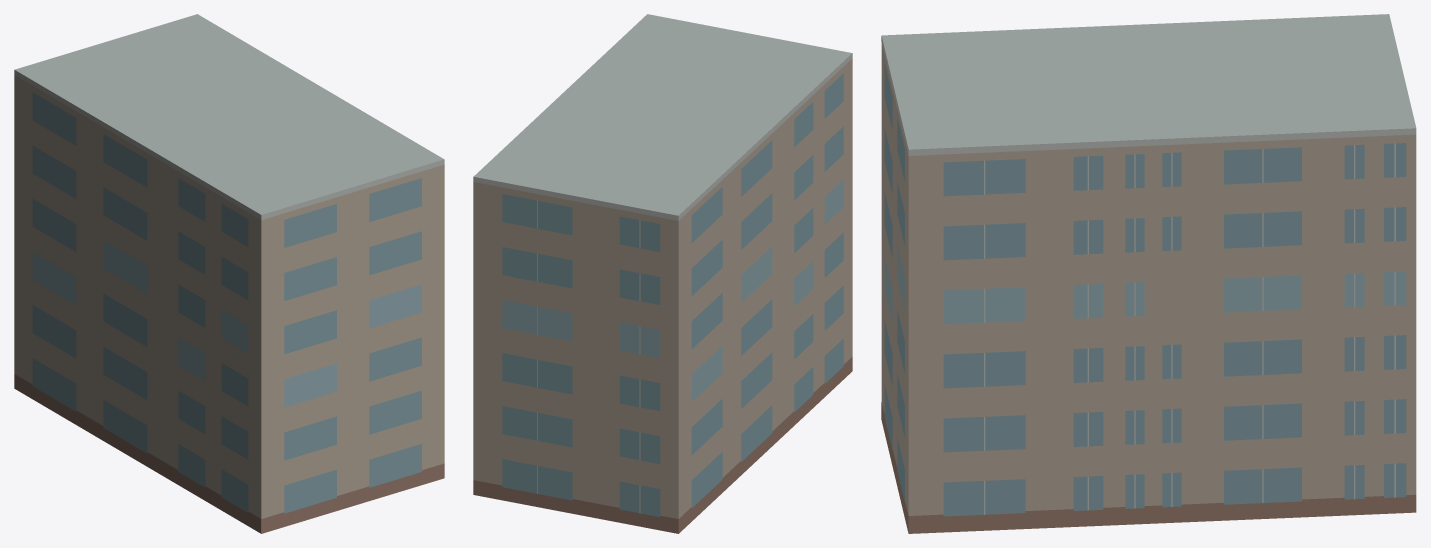
The model's file is survey-upis-32861332.glb.
3 renders of one model, left to right at view 1: azimuth 30°, elevation 25°; view 2: azimuth 150°, elevation 25°; view 3: azimuth 270°, elevation 25°, orthographic. The views are drawn at different scales.
Parts seen in each view (by area): view 1: survey-upis-32861332.tmp; view 2: survey-upis-32861332.tmp; view 3: survey-upis-32861332.tmp.
Part boxes in pixels (left/top/right/bottom): survey-upis-32861332.tmp: left=14, top=14, right=444, bottom=533; survey-upis-32861332.tmp: left=473, top=14, right=852, bottom=533; survey-upis-32861332.tmp: left=881, top=14, right=1416, bottom=533.
Bounding box in the file's own units: 11.37 × 15 × 18.94.
